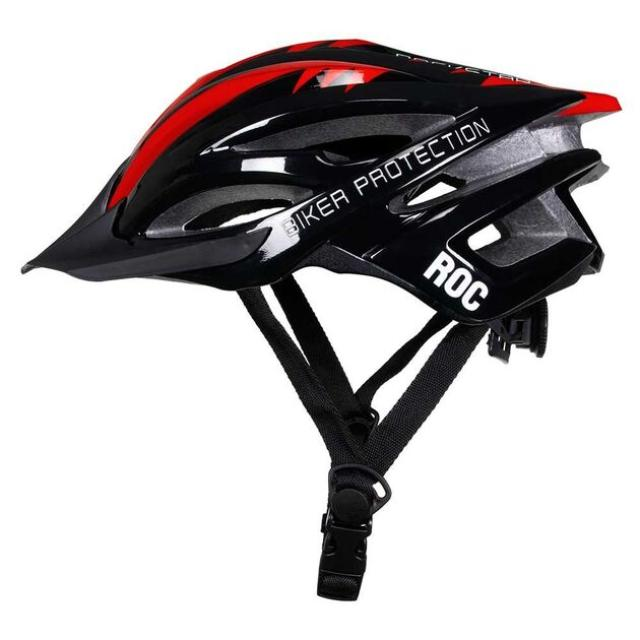Helmet: (13, 14, 624, 402)
